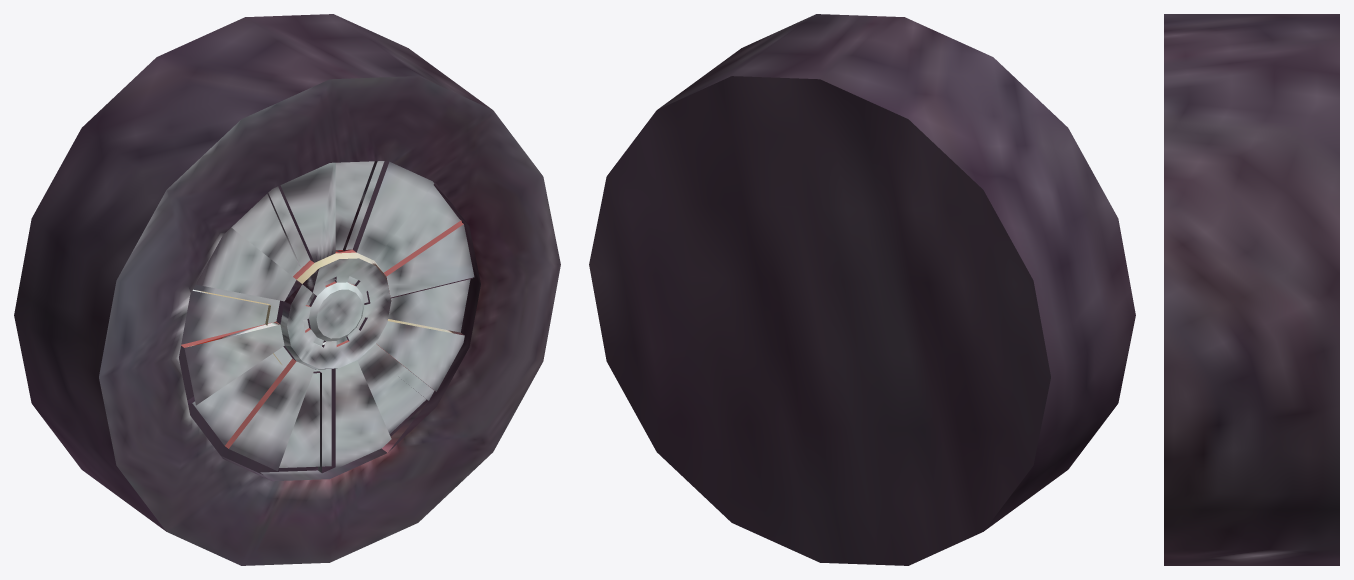
File: carro_llanta.obj
3 views of the same model, side by side, from view 1: azimuth 30°, elevation 25°; view 2: azimuth 150°, elevation 25°; view 3: azimuth 270°, elevation 25° (orthographic). The views are drawn at different scales.
Parts seen in each view (by area): view 1: Llanta; view 2: Llanta; view 3: Llanta.
Part boxes in pixels (x1,y1,x2,y2): Llanta: (14,14,560,565); Llanta: (589,14,1135,565); Llanta: (1164,14,1339,565).
Bounding box in the file's own units: 0.6536 × 0.6536 × 0.2078.
